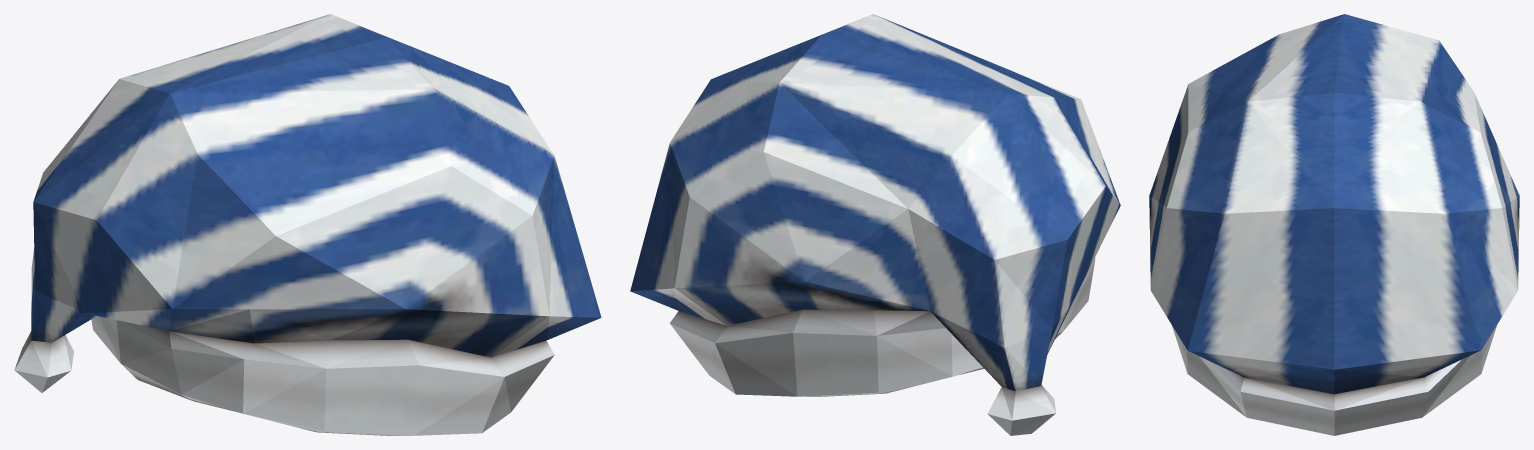
Rendered from Monkey_sleepHat.obj.
The picture shows the model from 3 angles, left to right: view 1: azimuth 30°, elevation 25°; view 2: azimuth 150°, elevation 25°; view 3: azimuth 270°, elevation 25°; orthographic projection. The views are drawn at different scales.
Parts seen in each view (by area): view 1: Monkey_sleepHat_tri; view 2: Monkey_sleepHat_tri; view 3: Monkey_sleepHat_tri.
Boxes of the visible parts, x1,y1,x2,y2 form: Monkey_sleepHat_tri: (14,14,601,435); Monkey_sleepHat_tri: (630,14,1120,435); Monkey_sleepHat_tri: (1149,14,1519,435).
Size of the model in its own units: 0.364 by 0.2649 by 0.2922.
Materials: 1 (1 with a texture image).
